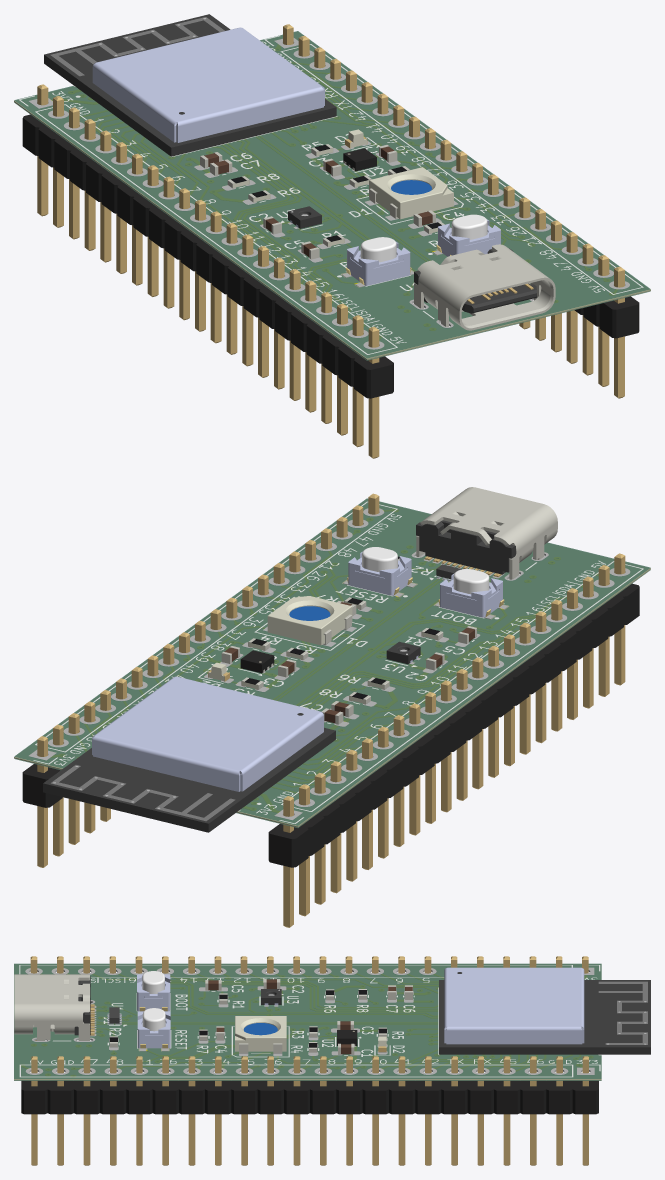
File: 3drender.glb
3 renders of one model, top to bottom at view 1: azimuth 30°, elevation 25°; view 2: azimuth 150°, elevation 25°; view 3: azimuth 270°, elevation 25°, orthographic. The views are drawn at different scales.
Visible parts, largest first — view 1: =>[0:1:1:30], =>[0:1:1:19] (×2), =>[0:1:1:32], =>[0:1:1:21], =>[0:1:1:23], =>[0:1:1:29], =>[0:1:1:27], =>[0:1:1:7] (×2), =>[0:1:1:26], =>[0:1:1:25], =>[0:1:1:31]; view 2: =>[0:1:1:30], =>[0:1:1:19] (×2), =>[0:1:1:32], =>[0:1:1:21], =>[0:1:1:23], =>[0:1:1:29], =>[0:1:1:27], =>[0:1:1:7] (×2), =>[0:1:1:26], =>[0:1:1:25]; view 3: =>[0:1:1:30], =>[0:1:1:19] (×2), =>[0:1:1:32], =>[0:1:1:21], =>[0:1:1:29], =>[0:1:1:23], =>[0:1:1:27], =>[0:1:1:7] (×2), =>[0:1:1:26], =>[0:1:1:25], =>[0:1:1:31], =>[0:1:1:11].
Boxes of the visible parts, x1,y1,x2,y2 form: =>[0:1:1:30]: [14, 31, 650, 358]; =>[0:1:1:19] (×2): [22, 24, 639, 458]; =>[0:1:1:32]: [14, 32, 650, 359]; =>[0:1:1:21]: [44, 14, 336, 156]; =>[0:1:1:23]: [414, 244, 555, 330]; =>[0:1:1:29]: [19, 35, 643, 354]; =>[0:1:1:27]: [28, 38, 629, 349]; =>[0:1:1:7] (×2): [345, 214, 500, 285]; =>[0:1:1:26]: [51, 45, 616, 338]; =>[0:1:1:25]: [369, 167, 453, 219]; =>[0:1:1:31]: [14, 102, 650, 360]; =>[0:1:1:30]: [14, 498, 650, 825]; =>[0:1:1:19] (×2): [22, 493, 639, 927]; =>[0:1:1:32]: [14, 499, 650, 827]; =>[0:1:1:21]: [43, 676, 335, 832]; =>[0:1:1:23]: [416, 487, 557, 579]; =>[0:1:1:29]: [33, 501, 643, 823]; =>[0:1:1:27]: [28, 508, 630, 820]; =>[0:1:1:7] (×2): [347, 547, 504, 617]; =>[0:1:1:26]: [51, 509, 597, 812]; =>[0:1:1:25]: [267, 596, 352, 645]; =>[0:1:1:30]: [14, 963, 601, 1078]; =>[0:1:1:19] (×2): [21, 956, 598, 1165]; =>[0:1:1:32]: [14, 964, 601, 1080]; =>[0:1:1:21]: [439, 967, 650, 1054]; =>[0:1:1:29]: [19, 965, 601, 1077]; =>[0:1:1:23]: [14, 974, 94, 1040]; =>[0:1:1:27]: [25, 967, 594, 1074]; =>[0:1:1:7] (×2): [137, 971, 170, 1048]; =>[0:1:1:26]: [21, 974, 592, 1075]; =>[0:1:1:25]: [235, 1016, 286, 1053]; =>[0:1:1:31]: [14, 1080, 601, 1080]; =>[0:1:1:11]: [261, 989, 281, 1005].
Bounding box in the file's own units: 0.0264 × 0.0133 × 0.0616.
